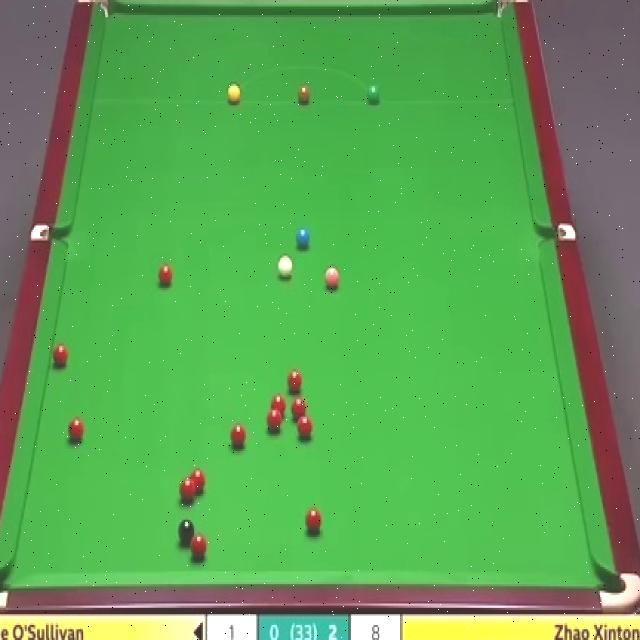black-ball: (177, 518, 196, 547)
blue-ball: (295, 226, 312, 252)
brown-ball: (297, 85, 312, 106)
green-ball: (364, 84, 380, 107)
pink-ball: (322, 262, 343, 292)
red-ball: (189, 533, 209, 563), (178, 478, 198, 504), (67, 415, 84, 445), (51, 341, 69, 369), (304, 508, 322, 535), (230, 425, 248, 451), (265, 409, 283, 434), (157, 263, 175, 287), (190, 467, 208, 491), (287, 368, 303, 394), (297, 414, 313, 439), (269, 394, 287, 416), (290, 398, 308, 418)
white-ball: (276, 254, 294, 282)
yellow-ball: (227, 83, 242, 106)
